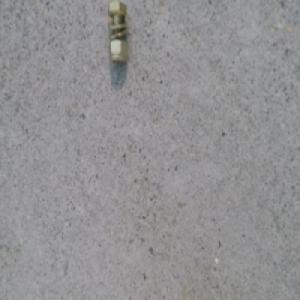BoltNutSet: (105, 11, 126, 70)
